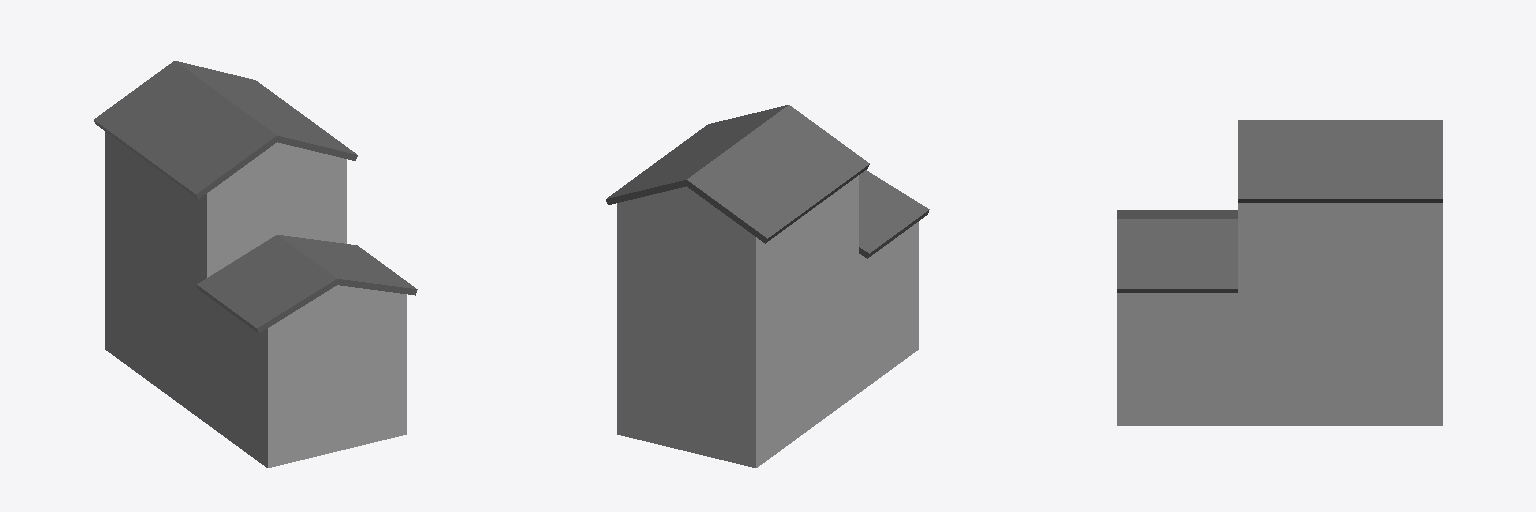
The model's file is coal_mine.obj.
3 views of the same model, side by side, from view 1: azimuth 30°, elevation 25°; view 2: azimuth 150°, elevation 25°; view 3: azimuth 270°, elevation 25° (orthographic).
Parts seen in each view (by area): view 1: cube1; view 2: cube1; view 3: cube1.
Part boxes in pixels (x1,y1,x2,y2): cube1: (94, 61, 417, 467); cube1: (606, 105, 929, 467); cube1: (1117, 120, 1442, 425).
Bounding box in the file's own units: 1.47 × 2.35 × 2.55.